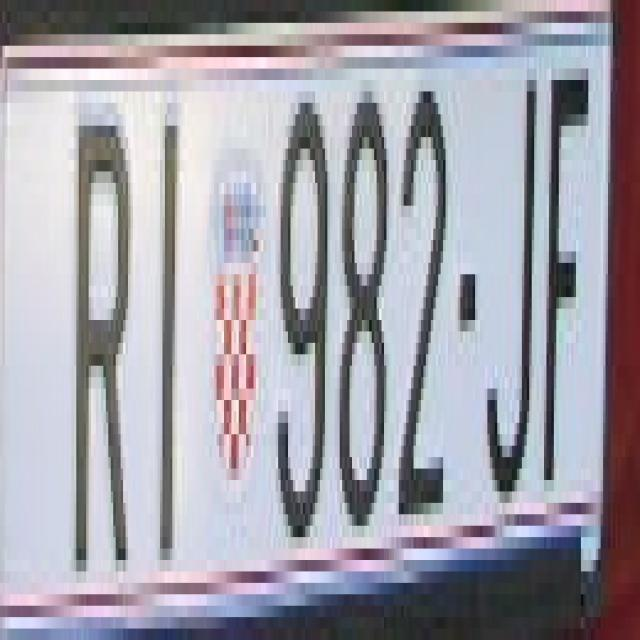2: (394, 80, 448, 514)
8: (339, 92, 386, 514)
9: (276, 91, 328, 560)
F: (544, 46, 593, 503)
